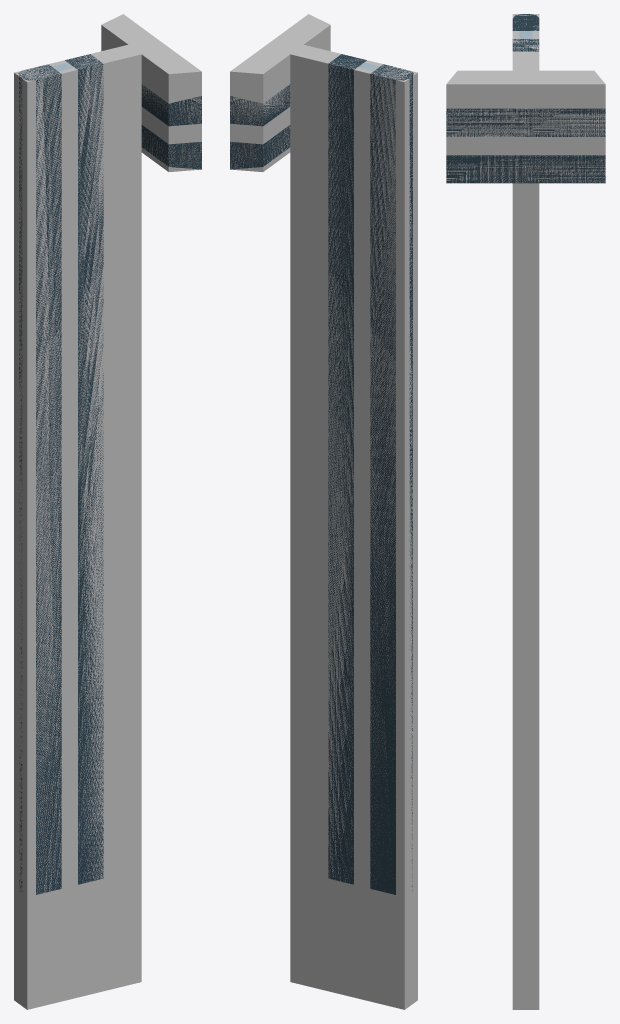
The model's file is SM_Train_Elevator_b.fbx.
The picture shows the model from 3 angles, left to right: view 1: azimuth 30°, elevation 25°; view 2: azimuth 150°, elevation 25°; view 3: azimuth 270°, elevation 25°; orthographic projection.
Parts seen in each view (by area): view 1: SM_Train_Elevator_b_ConvexHulls, SM_Train_Elevator_b; view 2: SM_Train_Elevator_b_ConvexHulls, SM_Train_Elevator_b; view 3: SM_Train_Elevator_b_ConvexHulls, SM_Train_Elevator_b.
Boxes of the visible parts, x1,y1,x2,y2 form: SM_Train_Elevator_b_ConvexHulls: (14, 14, 201, 1009); SM_Train_Elevator_b: (18, 54, 201, 894); SM_Train_Elevator_b_ConvexHulls: (230, 14, 417, 1009); SM_Train_Elevator_b: (230, 54, 413, 894); SM_Train_Elevator_b_ConvexHulls: (446, 14, 605, 1009); SM_Train_Elevator_b: (446, 14, 605, 183).
Bounding box in the file's own units: 132 × 126 × 823.
2 materials, 1 textured.
